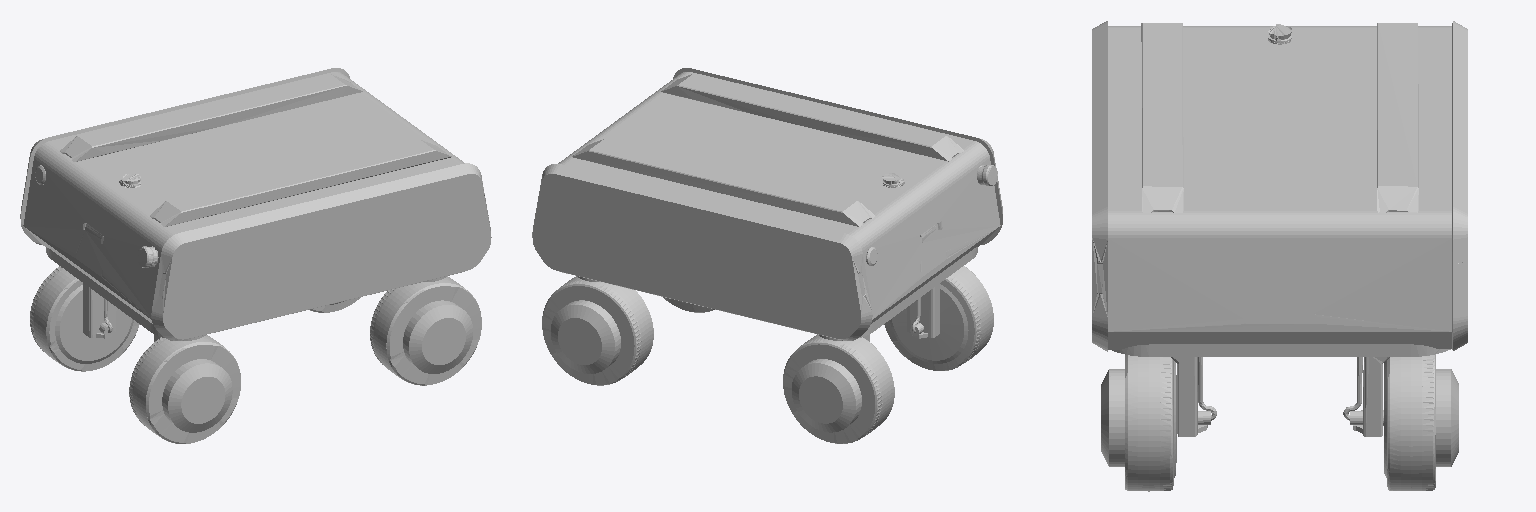
robot.urdf — yhs_chassis_description:
<robot name="yhs_chassis_description">
  <link name="base_link">
    <visual>
      <origin
        xyz="0.24 0.17 0"
        rpy="1.57 0 -1.57" />
      <geometry>
        <mesh
          filename="package://yhs_chassis_description/meshes/FW-mini.STL"/>
      </geometry>
      <material
        name="">
        <color
          rgba="0.8 0.8 0.8 1" />
      </material>
    </visual>
  </link>
</robot>

--- Facts derived from the render (not from the file) ---
The picture shows the robot from 3 angles, left to right: view 1: azimuth 30°, elevation 25°; view 2: azimuth 150°, elevation 25°; view 3: azimuth 270°, elevation 25°; orthographic projection.
Model yhs_chassis_description with 1 links and 0 joints (none), rooted at base_link, posed all joints at 0.
Visible links, largest first — view 1: base_link; view 2: base_link; view 3: base_link.
Link boxes in pixels (x1,y1,x2,y2): base_link: (20,68,491,443); base_link: (532,68,1002,443); base_link: (1092,21,1467,491).
Bounding box of the posed robot: 0.4953 × 0.3584 × 0.3182 m (x, y, z).
Meshes: 1 distinct files referenced, 1 mesh visuals loaded (1 binary STL).